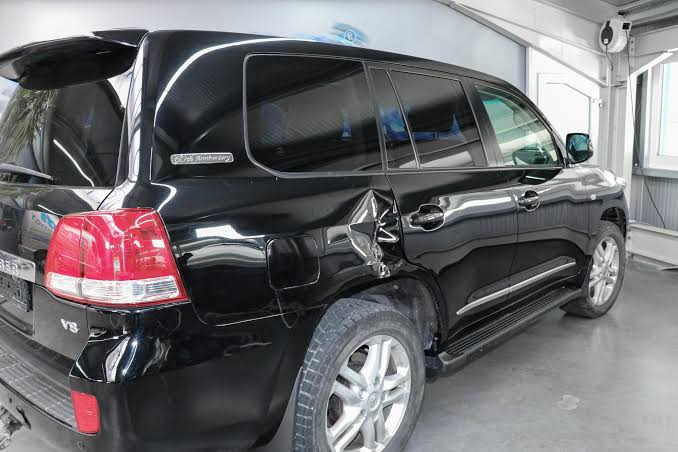quaterpanel-dent: (185, 177, 400, 331)
rear-bumper-dent: (1, 292, 313, 446)
